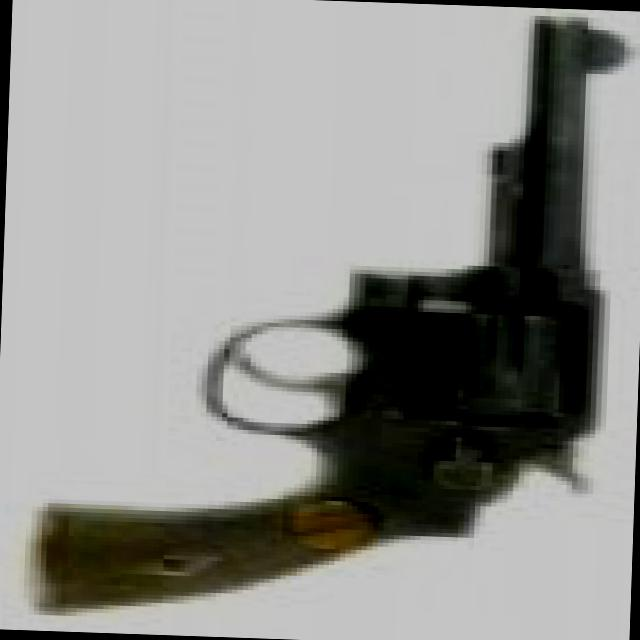handgun: (32, 0, 639, 635)
